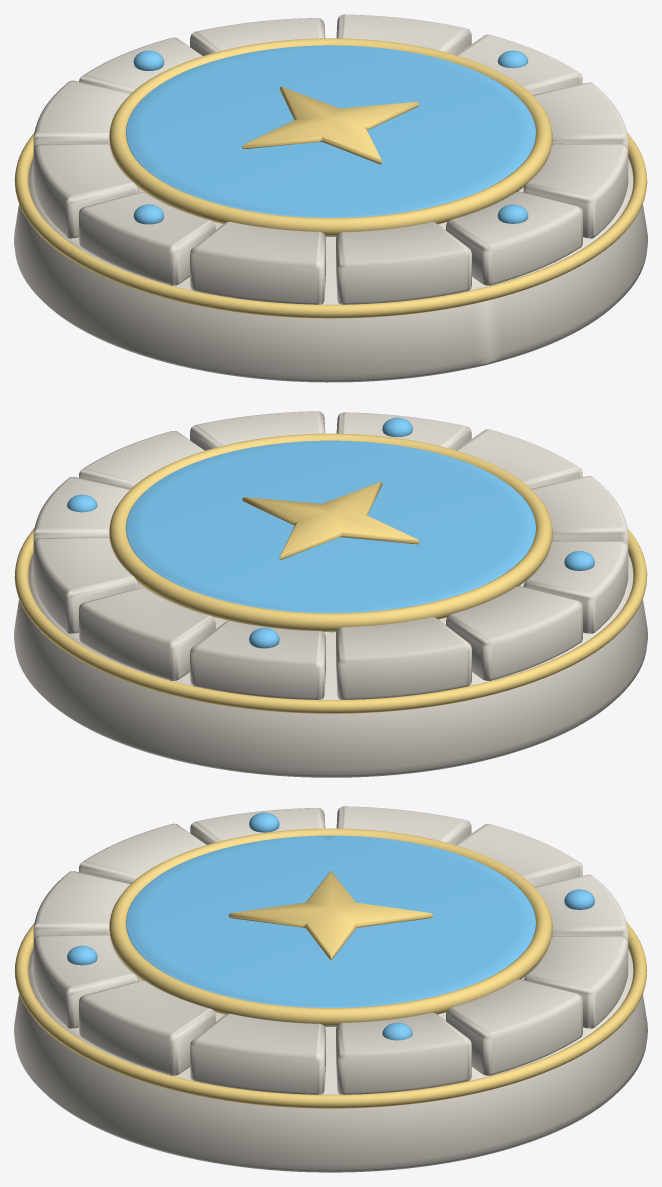
File: WM_NodePad_Normal.fbx
3 views of the same model, one above another, from view 1: azimuth 30°, elevation 25°; view 2: azimuth 150°, elevation 25°; view 3: azimuth 270°, elevation 25° (orthographic).
Parts seen in each view (by area): view 1: WM_NodePad_Normal; view 2: WM_NodePad_Normal; view 3: WM_NodePad_Normal.
Boxes of the visible parts, x1,y1,x2,y2 form: WM_NodePad_Normal: [14, 14, 647, 382]; WM_NodePad_Normal: [14, 411, 647, 777]; WM_NodePad_Normal: [14, 806, 647, 1172].
Size of the model in its own units: 1.65 by 0.3856 by 1.65.
